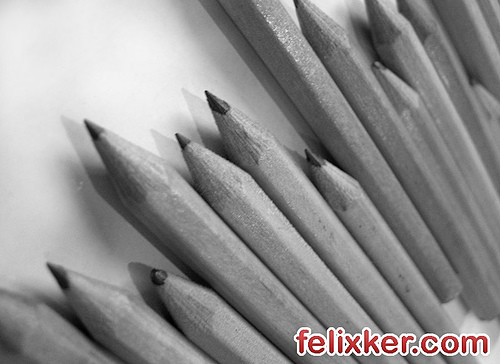pen_tip: (77, 116, 186, 222)
